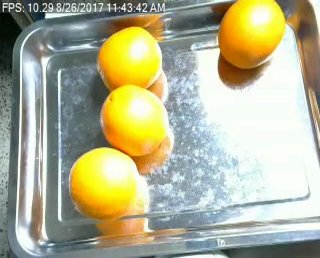Orange: (68, 145, 140, 218), (100, 84, 168, 155), (218, 1, 286, 69), (96, 25, 161, 93)
